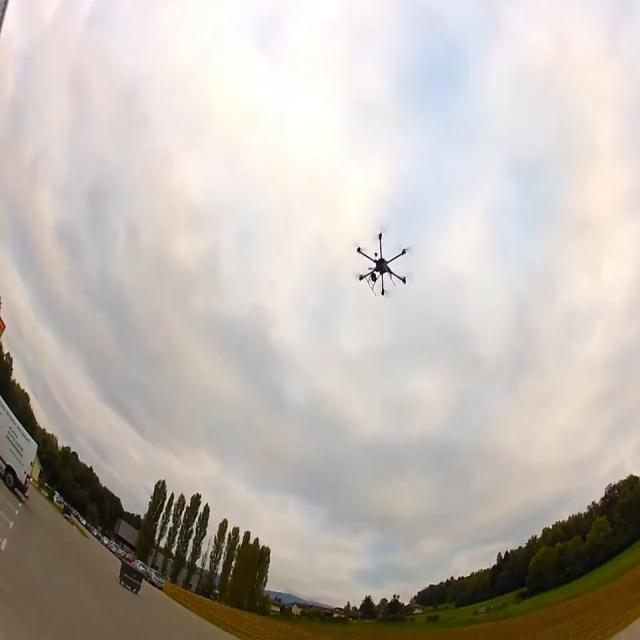drone: (356, 231, 407, 296)
